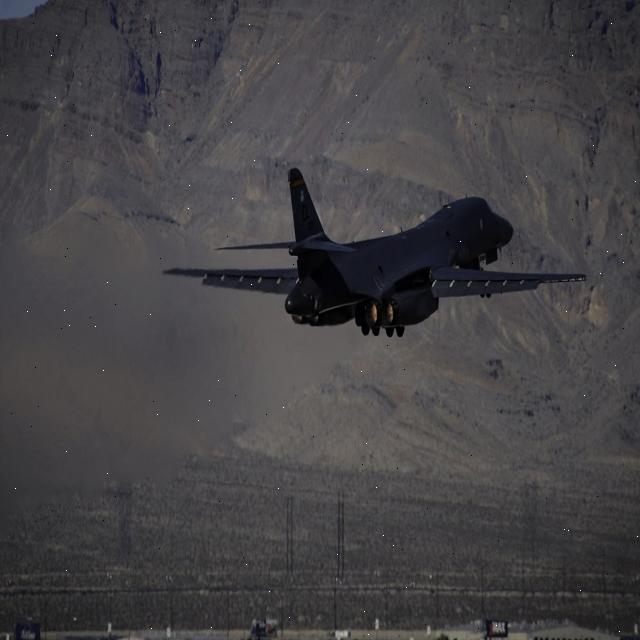B1: (176, 117, 600, 393)
